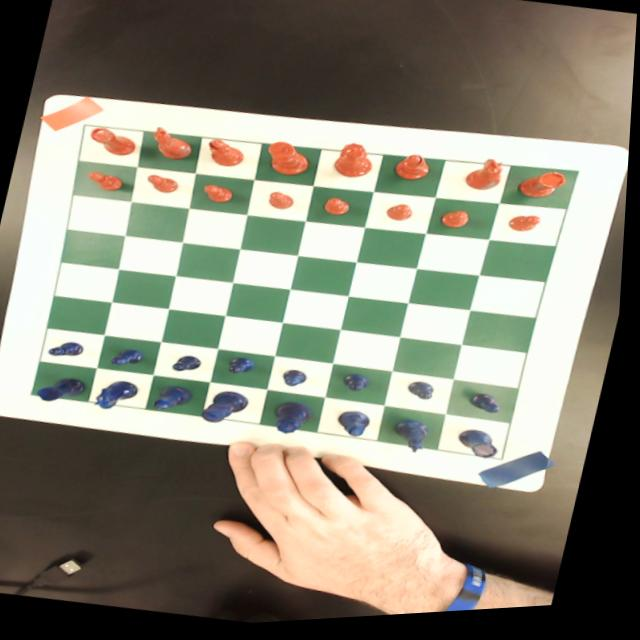B: (155, 384, 199, 416), (339, 413, 376, 443)
K: (203, 389, 255, 431)
N: (94, 377, 145, 416), (393, 421, 436, 461)
P: (112, 346, 150, 372), (470, 395, 508, 421), (50, 338, 89, 362), (407, 383, 441, 408), (174, 355, 207, 378), (344, 375, 375, 399), (229, 358, 260, 380), (283, 371, 313, 393)
Q: (271, 401, 320, 442)
R: (38, 372, 91, 409), (458, 431, 505, 469)
b: (204, 139, 249, 174), (392, 156, 435, 190)
k: (262, 141, 315, 183)
n: (146, 125, 199, 166), (464, 160, 510, 200)
p: (84, 170, 126, 196), (200, 183, 238, 209), (143, 173, 181, 198), (507, 217, 545, 242), (440, 211, 475, 236), (385, 205, 418, 230), (321, 199, 353, 222), (267, 193, 298, 215)
q: (332, 144, 378, 186)
r: (517, 172, 570, 210), (84, 125, 139, 161)
